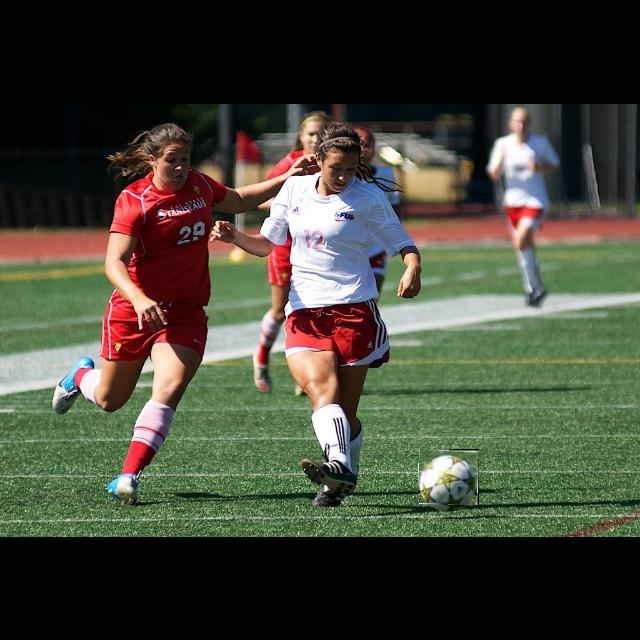Football: (419, 449, 479, 505)
